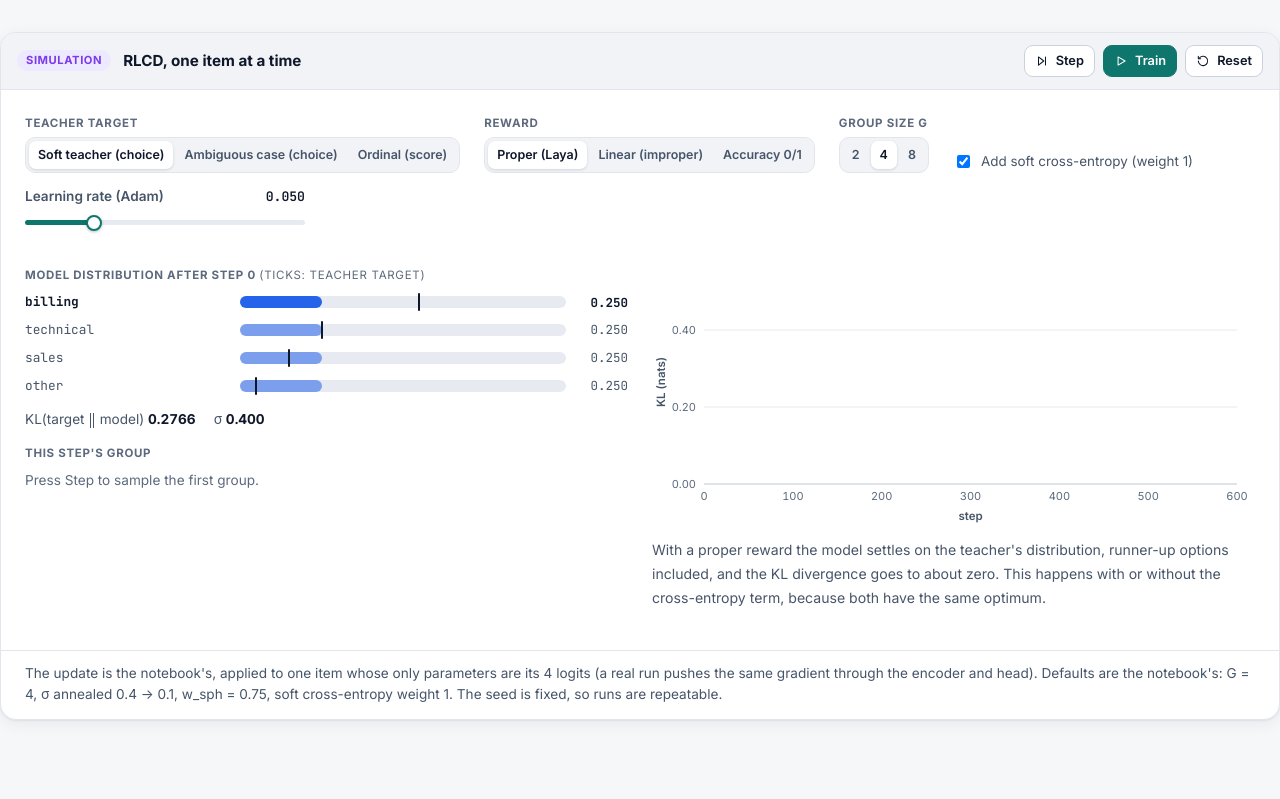
Scenario: RlcdSim › samples a group of G = 4 on Step
The width and height of the screenshot is (1280, 799).
Click the button "Step" at [1059, 61], box left=1024, top=45, right=1095, bottom=77
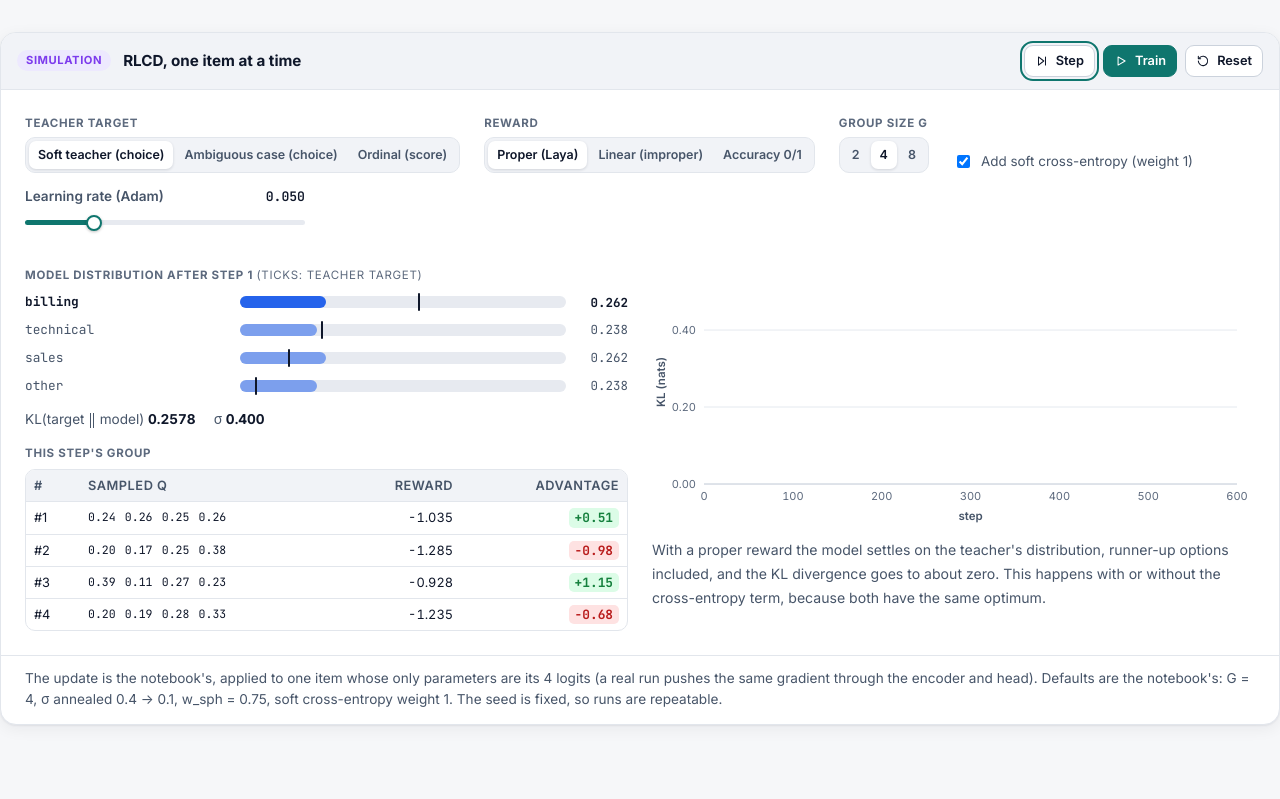
Check: the text "#5" is not shown
Check: the text "#4" is shown, box left=26, top=598, right=80, bottom=630
Click the radio button labelled "8" at [912, 155], box left=899, top=141, right=925, bottom=168
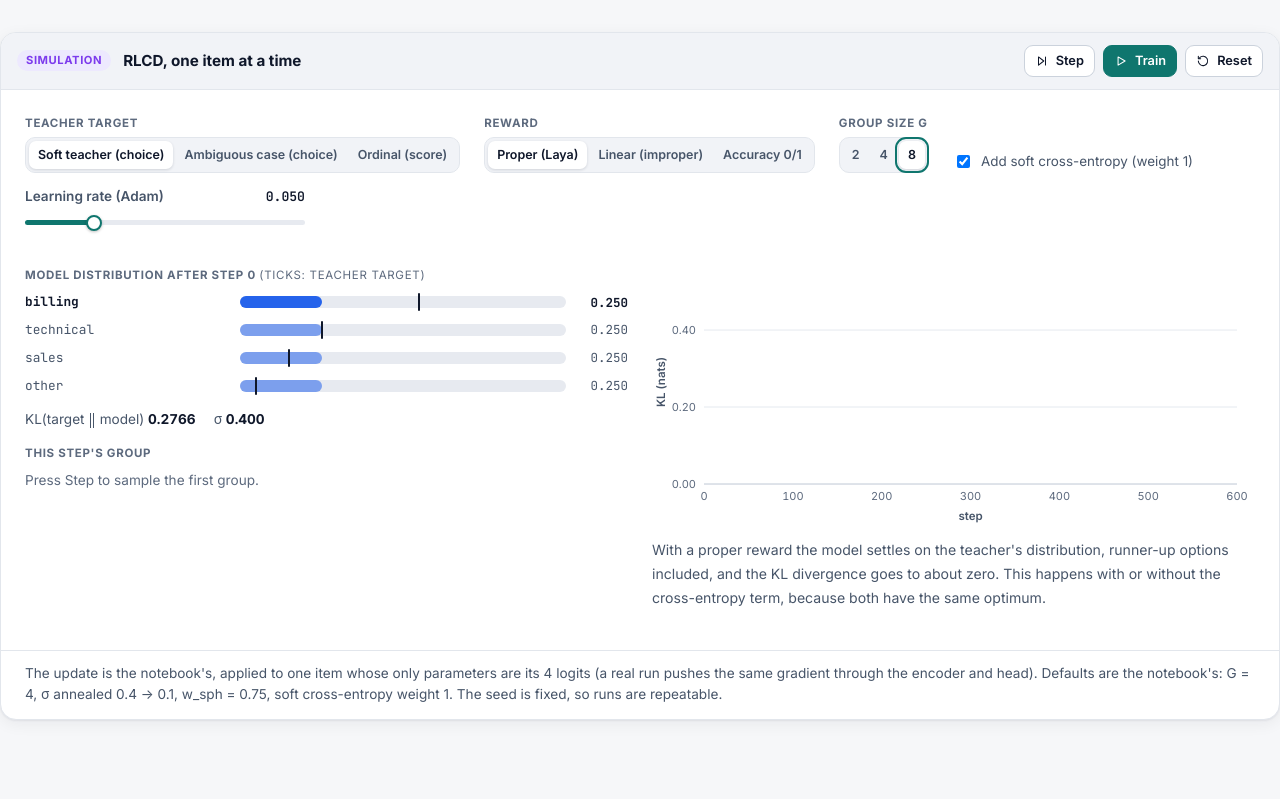
Click the button "Step" at [1059, 61], box left=1024, top=45, right=1095, bottom=77
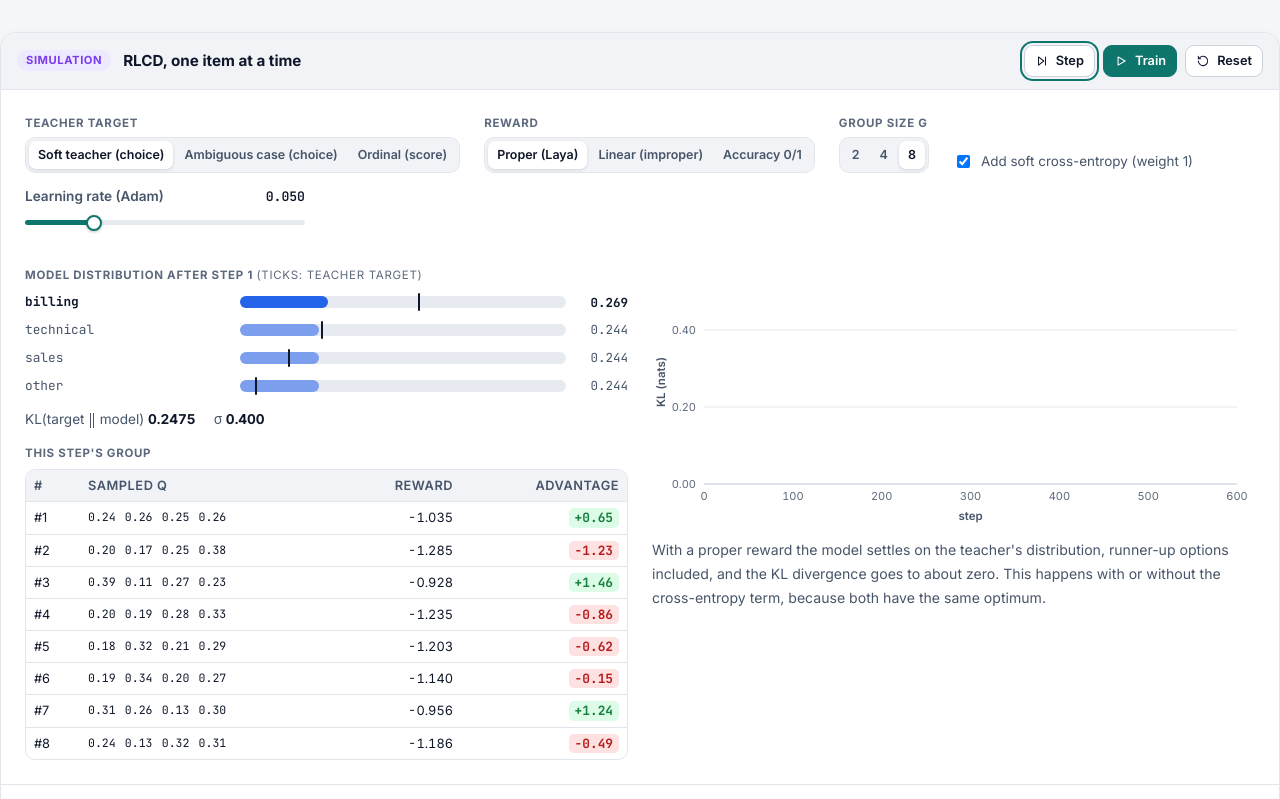
Check: the text "#8" is shown, box left=26, top=727, right=80, bottom=759
